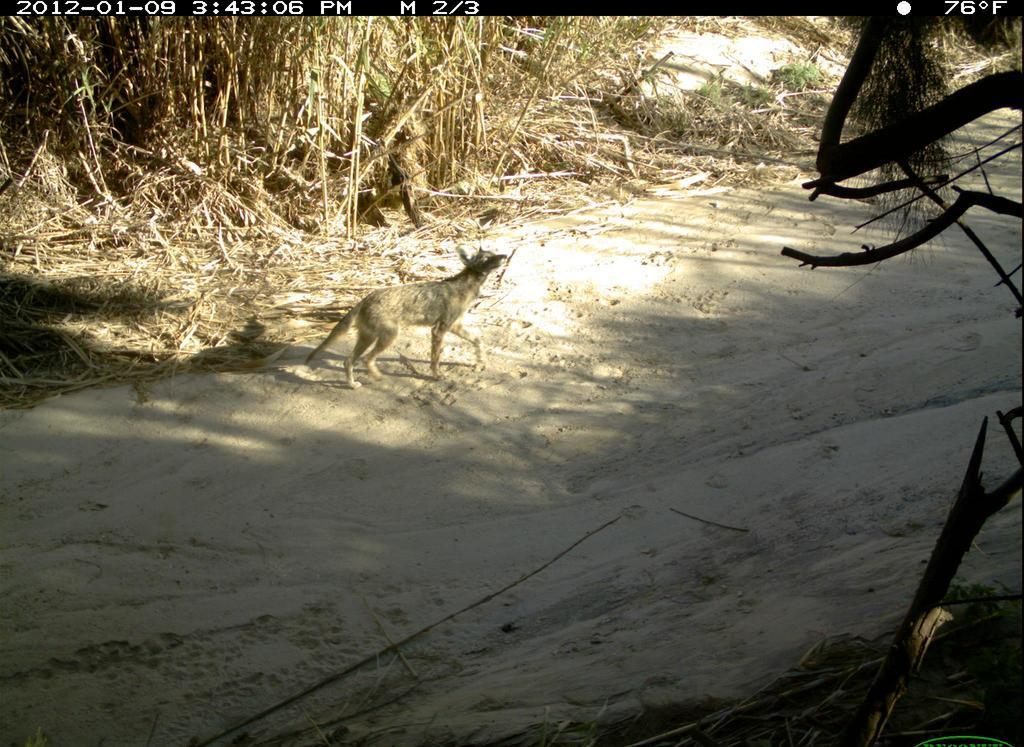coyote: (301, 241, 515, 396)
